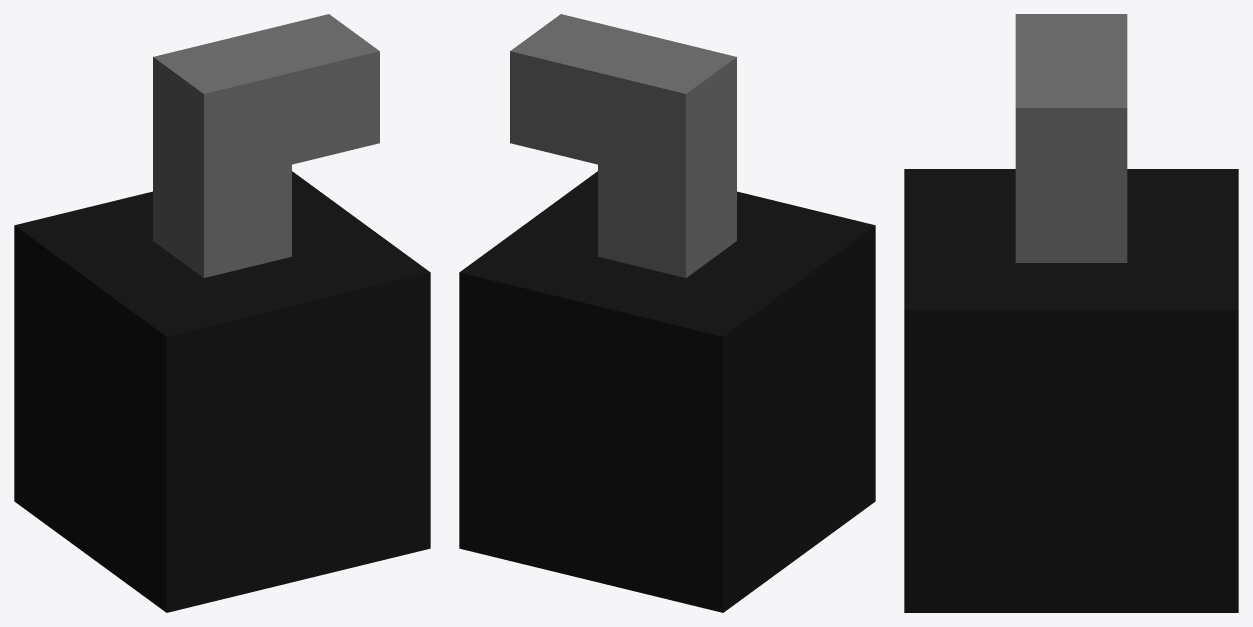
The model's file is bomb.dae.
3 renders of one model, left to right at view 1: azimuth 30°, elevation 25°; view 2: azimuth 150°, elevation 25°; view 3: azimuth 270°, elevation 25°, orthographic. The views are drawn at different scales.
Parts seen in each view (by area): view 1: bomb; view 2: bomb; view 3: bomb.
Boxes of the visible parts, x1,y1,x2,y2 form: bomb: (14, 14, 430, 612); bomb: (459, 14, 875, 612); bomb: (904, 14, 1238, 612).
Size of the model in its own units: 0.3 by 0.5 by 0.3.
1 material, 1 textured.
